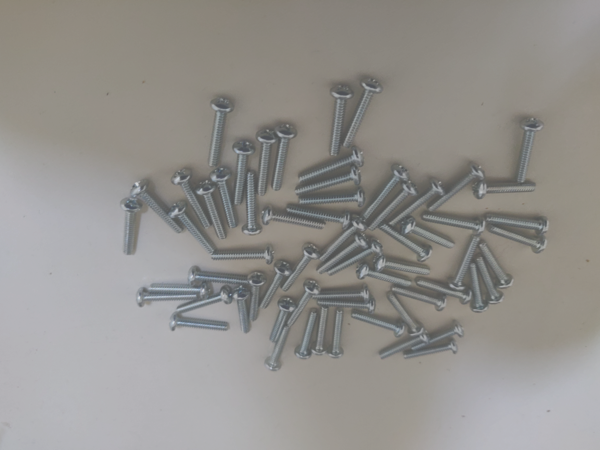longscrew: (346, 75, 386, 150), (131, 182, 186, 236), (198, 95, 234, 170), (393, 180, 445, 228), (433, 163, 484, 211), (364, 165, 408, 218), (372, 180, 416, 233), (297, 148, 365, 181), (328, 243, 385, 279), (489, 225, 551, 258), (174, 205, 216, 253), (174, 172, 209, 229), (318, 220, 362, 261), (519, 114, 544, 184), (402, 342, 460, 372), (423, 211, 489, 237), (411, 321, 468, 351), (298, 169, 361, 196), (319, 237, 366, 273), (263, 325, 296, 376), (283, 246, 320, 291), (380, 227, 430, 260), (448, 237, 478, 292), (287, 281, 320, 331), (389, 293, 424, 337), (178, 288, 231, 317), (291, 205, 352, 230), (200, 183, 226, 241), (378, 332, 430, 361), (272, 119, 293, 190), (264, 209, 325, 233), (120, 193, 143, 255), (488, 211, 550, 234), (331, 84, 351, 155), (234, 137, 255, 204), (475, 178, 538, 200), (478, 257, 505, 308), (300, 192, 366, 212), (390, 286, 445, 310), (261, 262, 289, 309), (214, 166, 235, 227), (267, 298, 296, 342), (213, 245, 280, 264), (401, 222, 454, 246), (295, 311, 320, 361), (308, 308, 333, 358), (323, 311, 348, 361), (417, 282, 471, 305), (241, 174, 261, 236), (352, 316, 407, 337), (181, 269, 247, 286), (486, 243, 511, 287), (357, 269, 418, 287), (376, 258, 436, 276), (173, 315, 232, 333), (133, 293, 198, 309), (248, 271, 268, 322), (260, 127, 274, 196), (150, 281, 214, 295), (313, 285, 372, 300), (319, 297, 377, 312), (472, 262, 488, 313), (235, 288, 252, 335)
